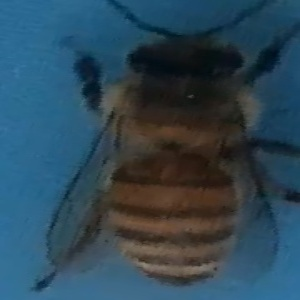bee: (40, 3, 298, 299)
